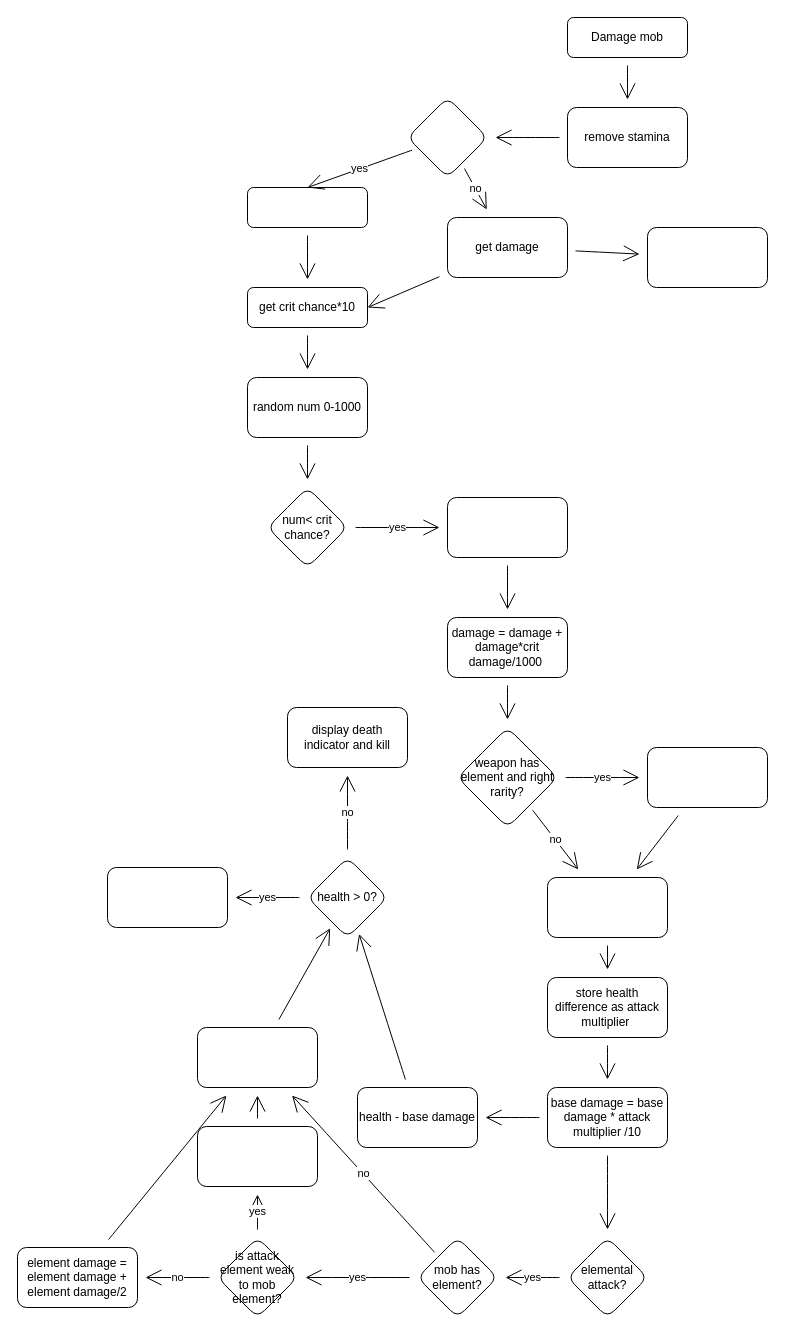
Some shapes in this 785 by 1335 pixel diagram are drawn without their labels. Here are the shapes that lost their labels. From the top down, the centre of each, then its label:
At point (447, 137): "is stamina >0?".
At point (307, 207): "get damage*10".
At point (707, 257): "half current movement speed".
At point (507, 527): "get crit damage*10".
At point (707, 777): "elemental damage = base damage *elemental mult/100".
At point (167, 897): "display damage indicator".
At point (607, 907): "get health difference (value from 0 to 10, maybe more with bows)".
At point (257, 1057): "health - element damage".
At point (257, 1156): "element damage = 0".
